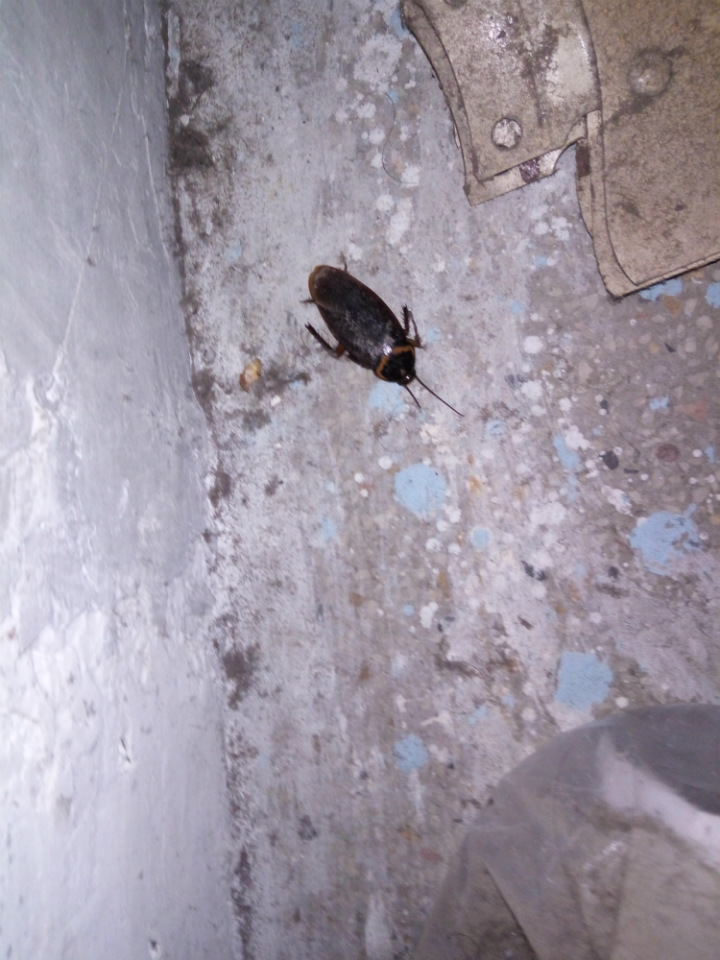cockroach: (191, 234, 521, 463)
